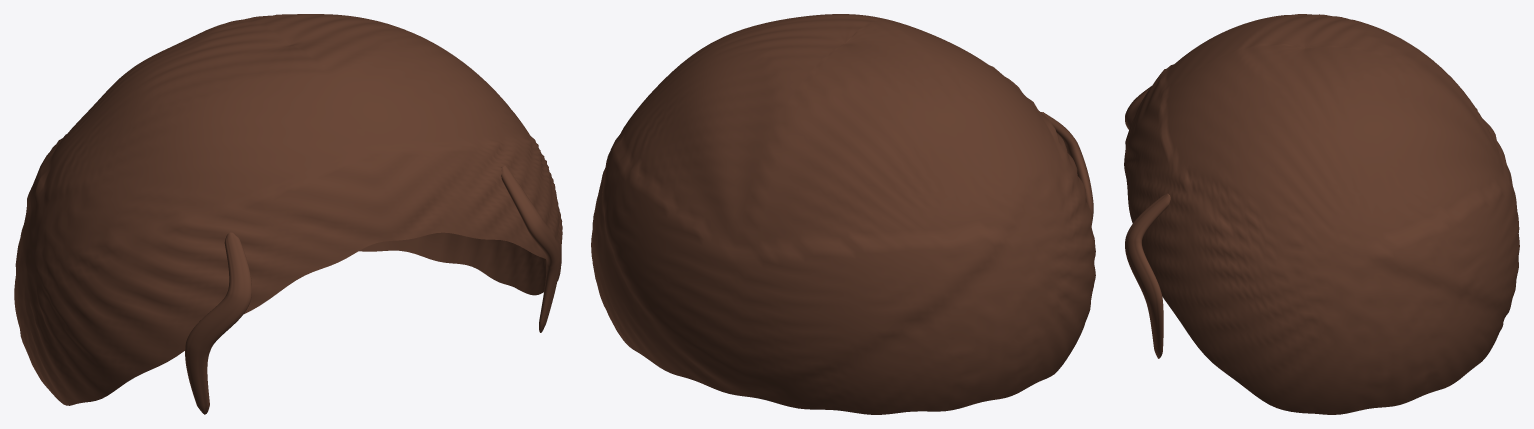
Rendered from Feminine-twin-braids-headband251-hair.glb.
3 renders of one model, left to right at view 1: azimuth 30°, elevation 25°; view 2: azimuth 150°, elevation 25°; view 3: azimuth 270°, elevation 25°, orthographic. The views are drawn at different scales.
Visible parts, largest first — view 1: 226 hair / Hair / chestnut226.002; view 2: 226 hair / Hair / chestnut226.002; view 3: 226 hair / Hair / chestnut226.002.
Boxes of the visible parts, <box> form: 226 hair / Hair / chestnut226.002: <box>14,14,562,414</box>; 226 hair / Hair / chestnut226.002: <box>591,14,1095,414</box>; 226 hair / Hair / chestnut226.002: <box>1124,14,1519,414</box>.
Bounding box in the file's own units: 0.9981 × 0.5988 × 0.7846.
